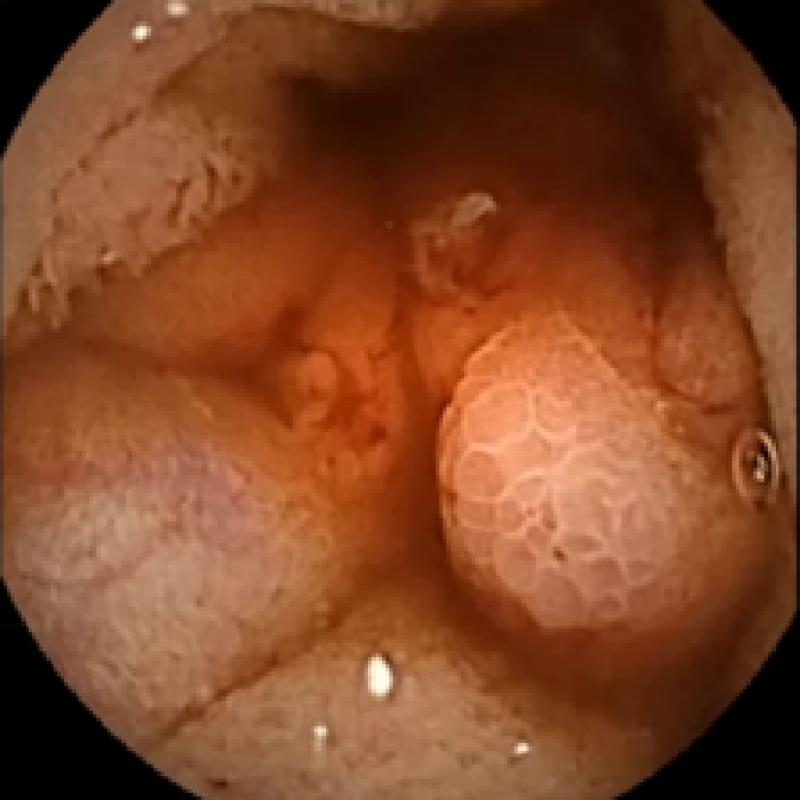bleeding: (239, 4, 725, 475)
